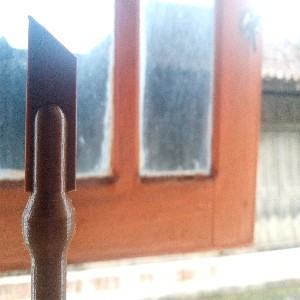cutter: (20, 14, 79, 300)
